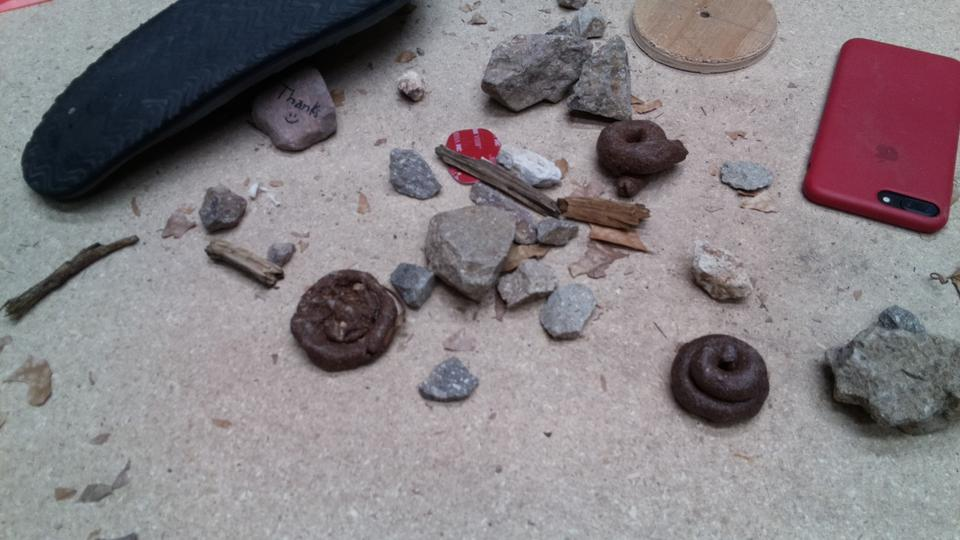poop: (286, 268, 402, 374), (669, 332, 773, 428), (595, 116, 691, 202)
